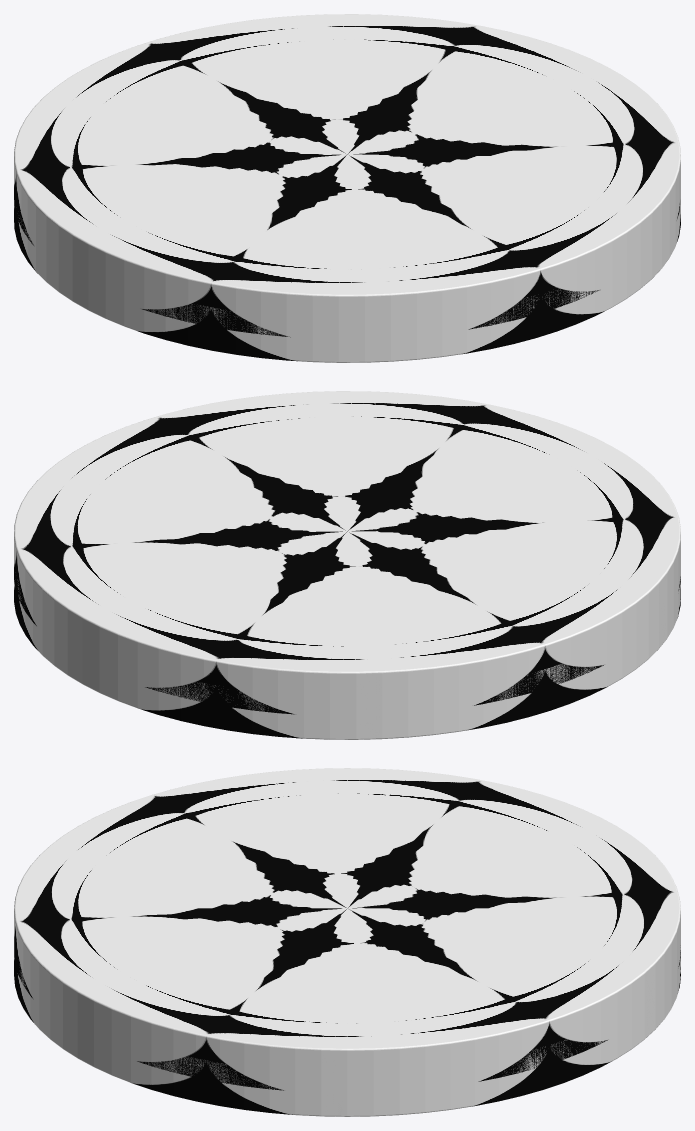
Rendered from chip10.fbx.
3 views of the same model, one above another, from view 1: azimuth 30°, elevation 25°; view 2: azimuth 150°, elevation 25°; view 3: azimuth 270°, elevation 25° (orthographic).
Visible parts, largest first — view 1: PokerChips.001; view 2: PokerChips.001; view 3: PokerChips.001.
Part boxes in pixels (box(x1,y1,x2,y2)): PokerChips.001: box(14, 14, 680, 362); PokerChips.001: box(14, 391, 680, 739); PokerChips.001: box(14, 768, 680, 1116).
Bounding box in the file's own units: 400 × 45 × 400.
1 material, 1 textured.
